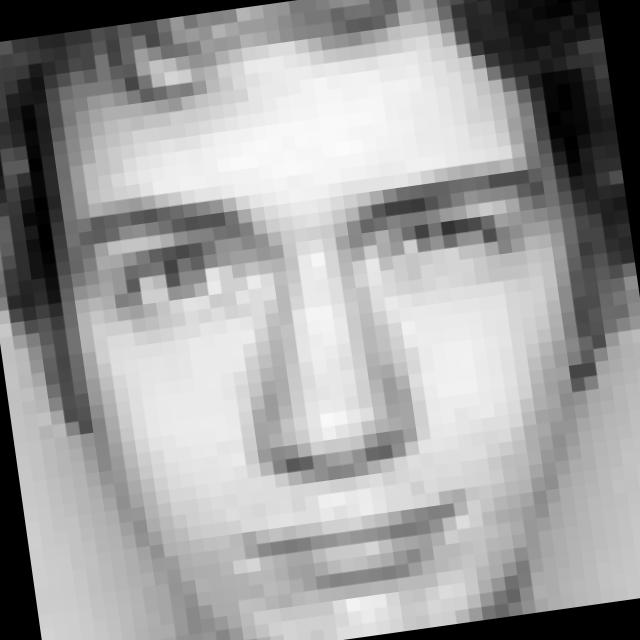neutral: (59, 126, 606, 623)
